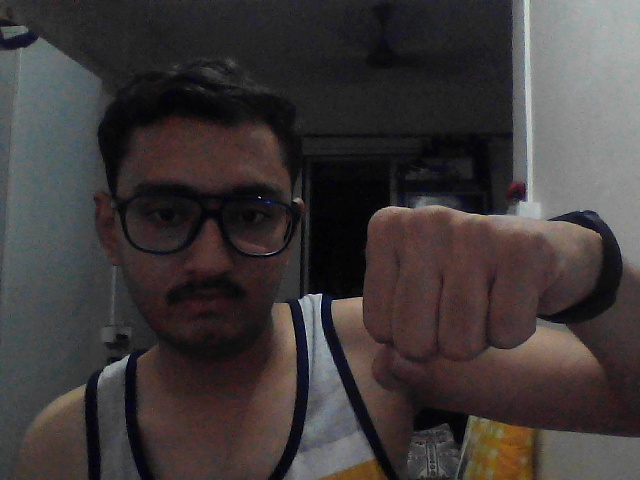Yes: (340, 160, 625, 420)
